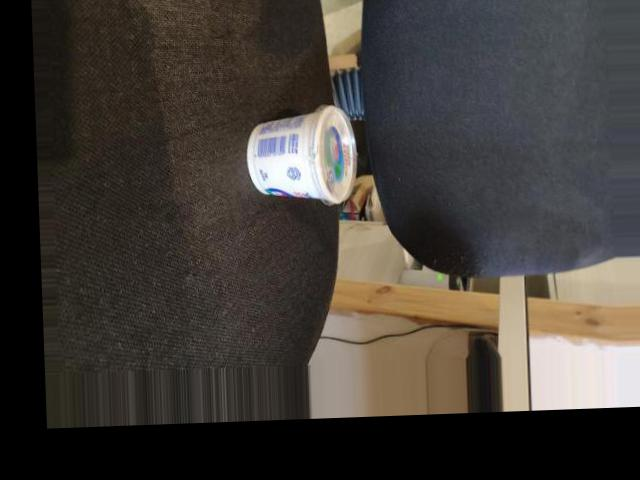cotage: (235, 108, 362, 204)
